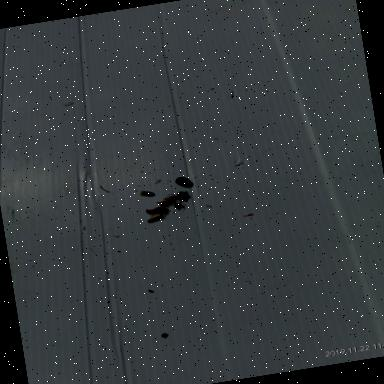pbw: (144, 212, 165, 223)
